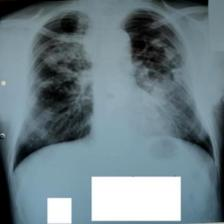tuberculosis: (8, 6, 218, 169)
